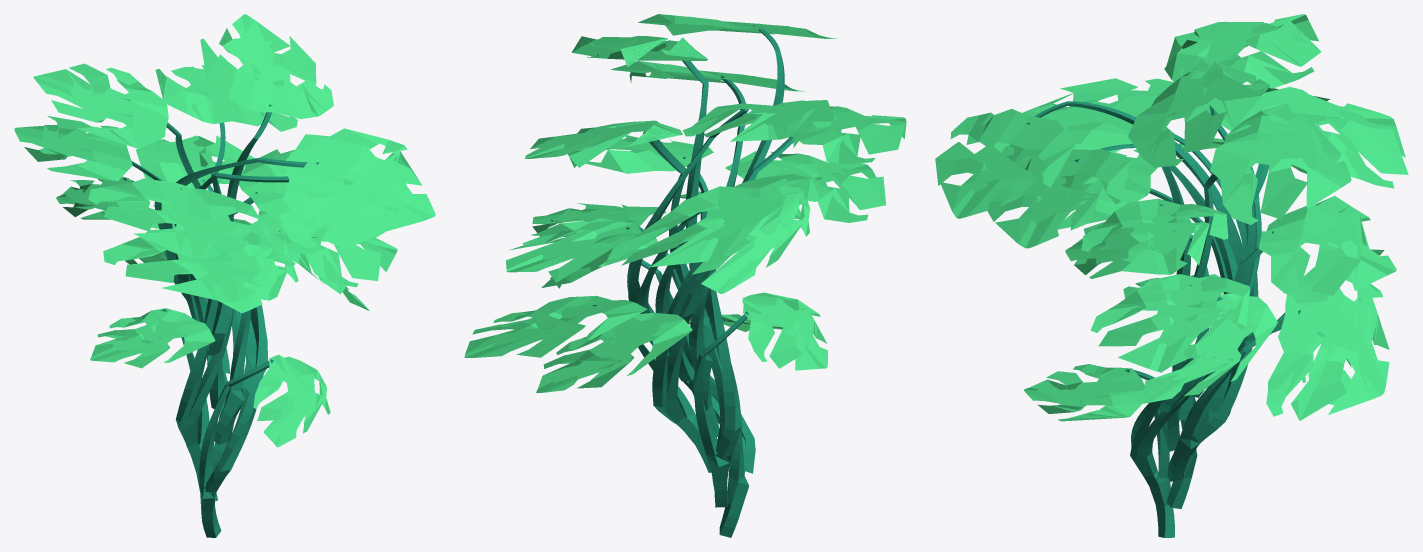
Rendered from plant4.fbx.
The picture shows the model from 3 angles, left to right: view 1: azimuth 30°, elevation 25°; view 2: azimuth 150°, elevation 25°; view 3: azimuth 270°, elevation 25°; orthographic projection. The views are drawn at different scales.
Parts seen in each view (by area): view 1: Plane; view 2: Plane; view 3: Plane.
Part boxes in pixels (left/top/right/bottom): Plane: left=14, top=14, right=435, bottom=537; Plane: left=464, top=14, right=906, bottom=537; Plane: left=935, top=14, right=1408, bottom=537.
Size of the model in its own units: 62.71 by 89.22 by 77.22.
